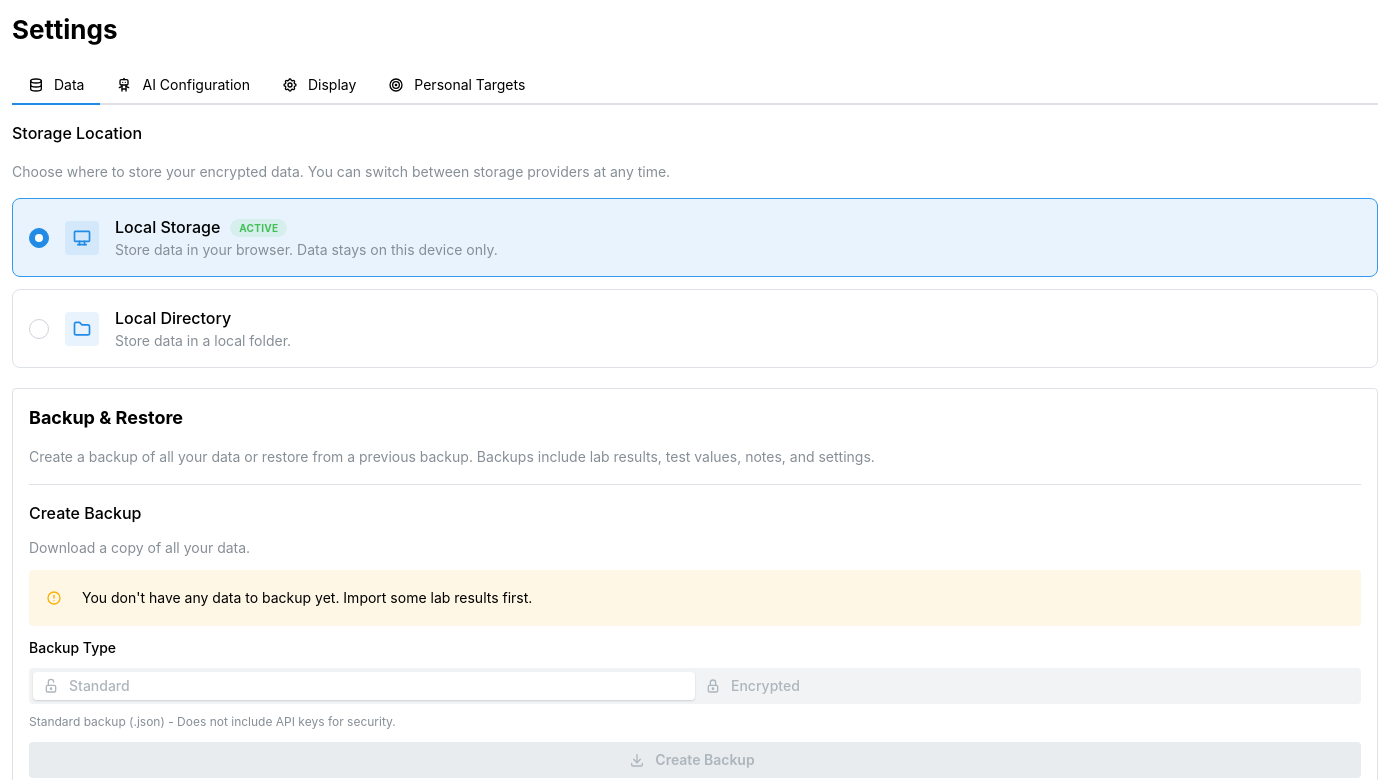
SettingsPage › tab navigation › should switch to Personal Targets tab when clicked
What coordinates should you click on to do the following:
click the tab "Personal Targets"
I would click on:
 (457, 86)
Its box is [372, 67, 541, 105].
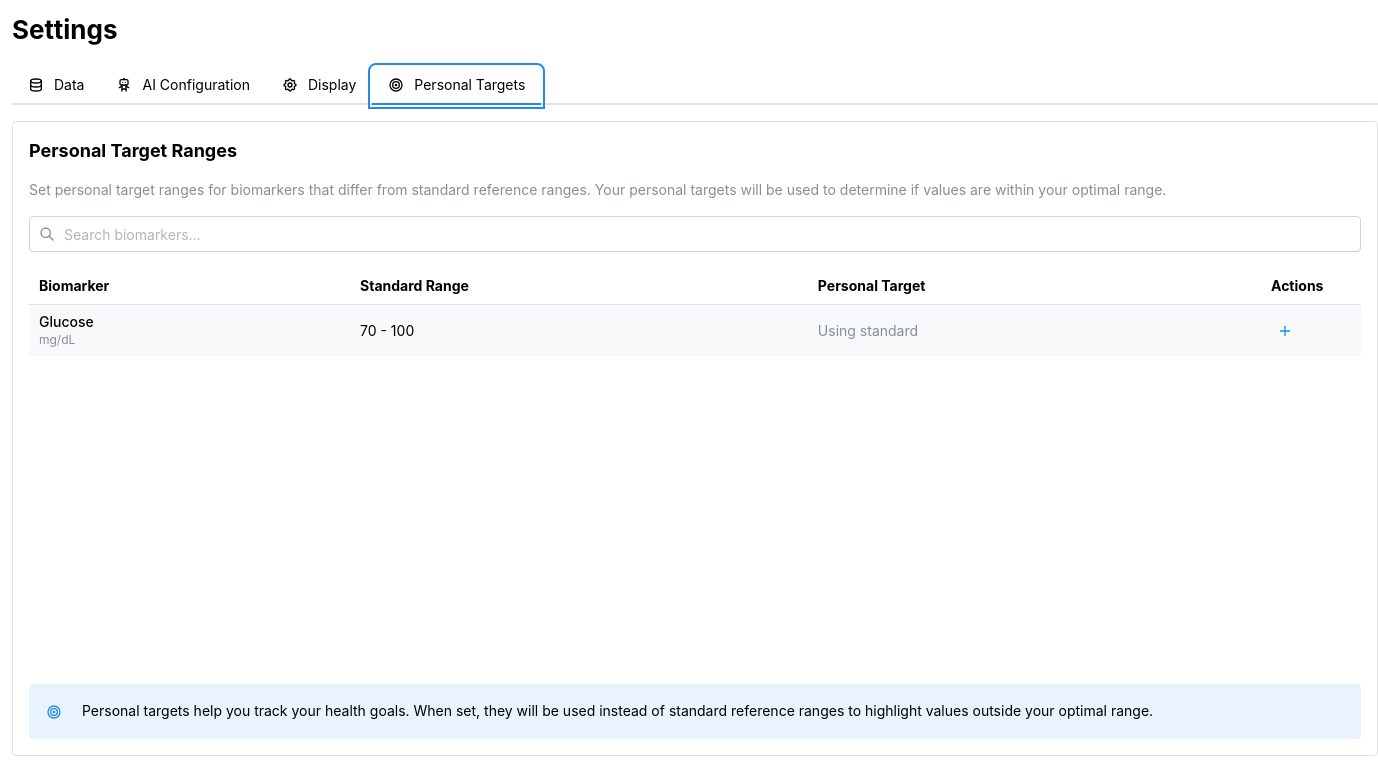
Now the heading "Personal Target Ranges" is shown, box [29, 138, 237, 164]
